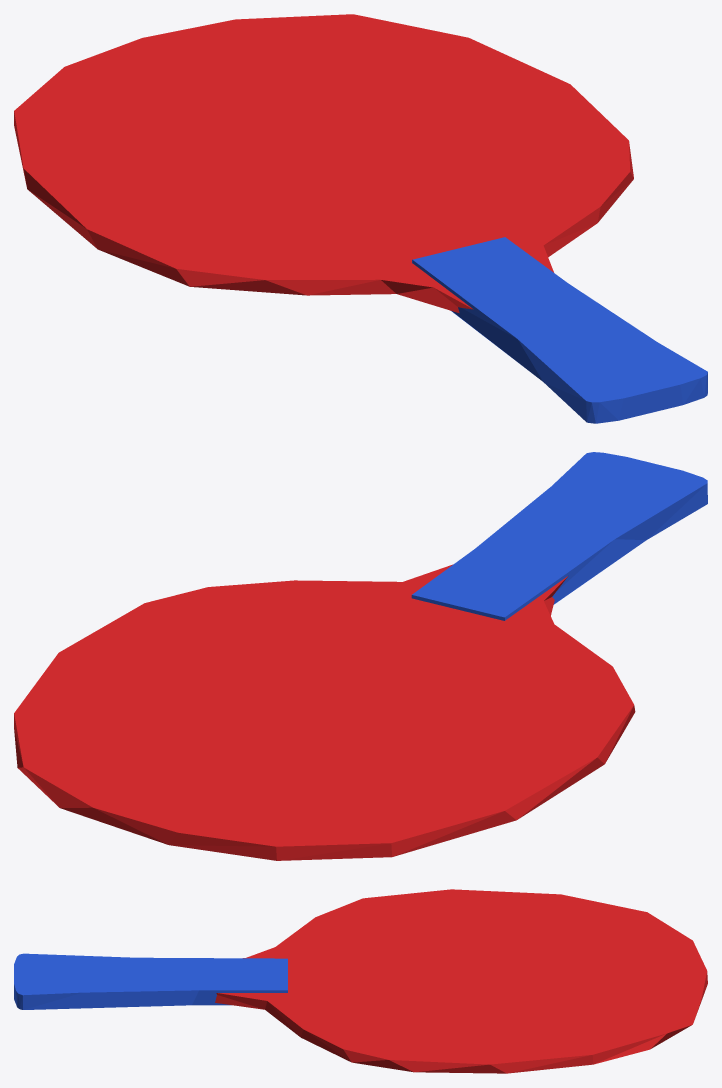
The model's file is Racket.gltf.
3 views of the same model, one above another, from view 1: azimuth 30°, elevation 25°; view 2: azimuth 150°, elevation 25°; view 3: azimuth 270°, elevation 25° (orthographic). The views are drawn at different scales.
Parts seen in each view (by area): view 1: Racket; view 2: Racket; view 3: Racket.
Part boxes in pixels (<box>): Racket: <box>14,14,707,423</box>; Racket: <box>14,452,707,860</box>; Racket: <box>14,889,707,1073</box>.
Size of the model in its own units: 0.1509 by 0.006 by 0.2526.
